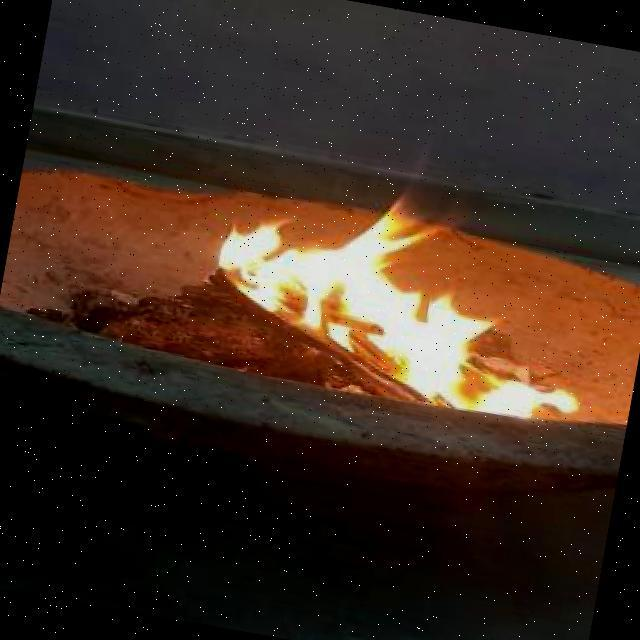Fire: (199, 108, 613, 440)
